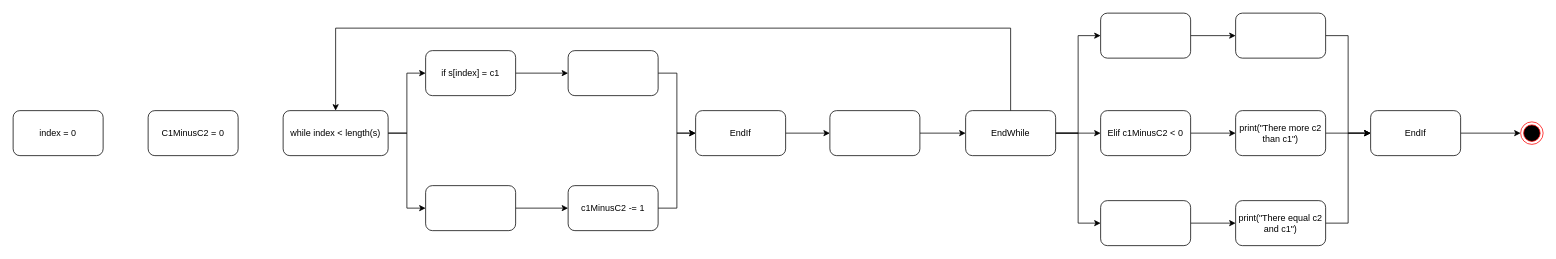
Image size: 1556x259. Some labels were removed from this diagram. The shapes that lost their labels are listed below. From the top down, each one's centre as x and y in pixels, then its label:
point 1145,35: If c1MinusC2 > 0
point 1280,35: print("There more c1 than c2")
point 612,73: c1MinusC2 += 1
point 874,133: index += 1
point 470,208: elif s[index] = c2
point 1145,223: Else
